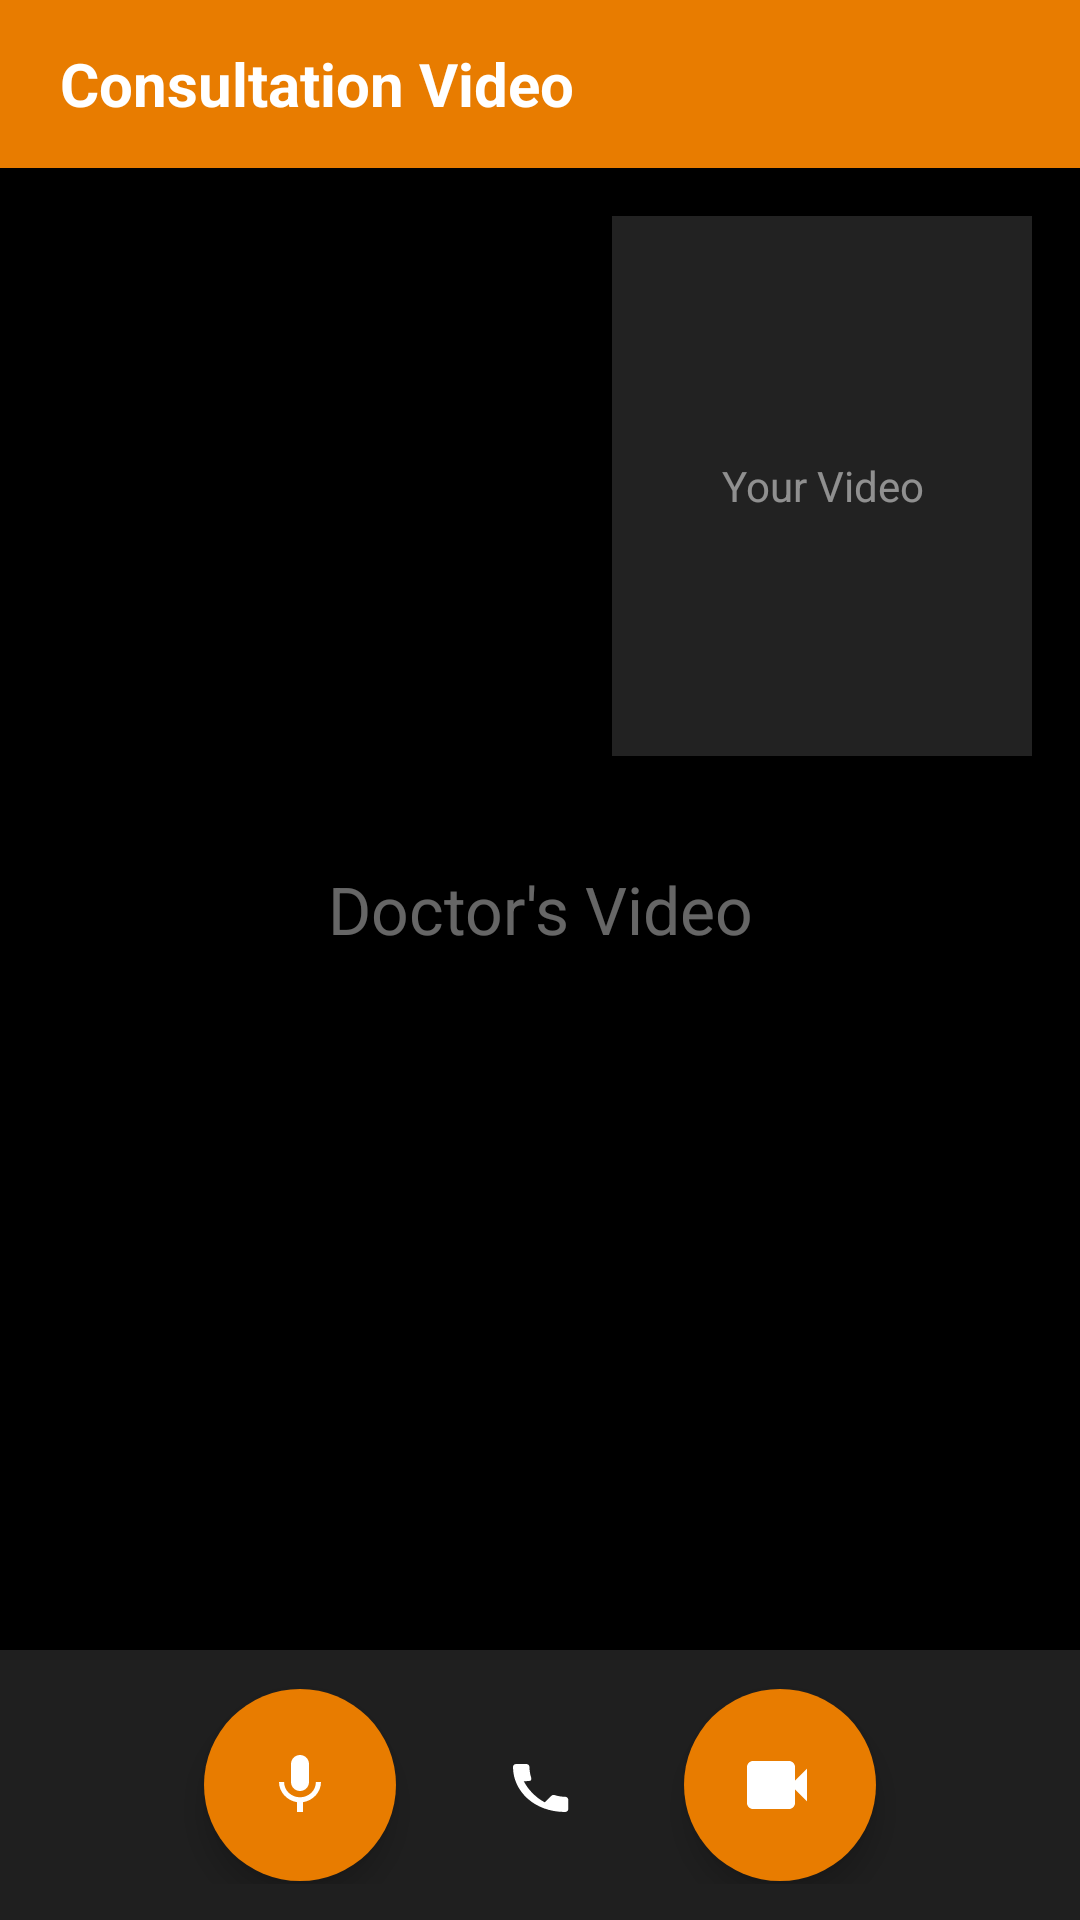

Icons on this 1080x1920 Android screen, each with its box as Rect(x1, y1, x2, y2):
Camera: Rect(684, 1689, 876, 1881)
End Call: Rect(513, 1764, 569, 1812)
Mic: Rect(204, 1689, 396, 1881)
